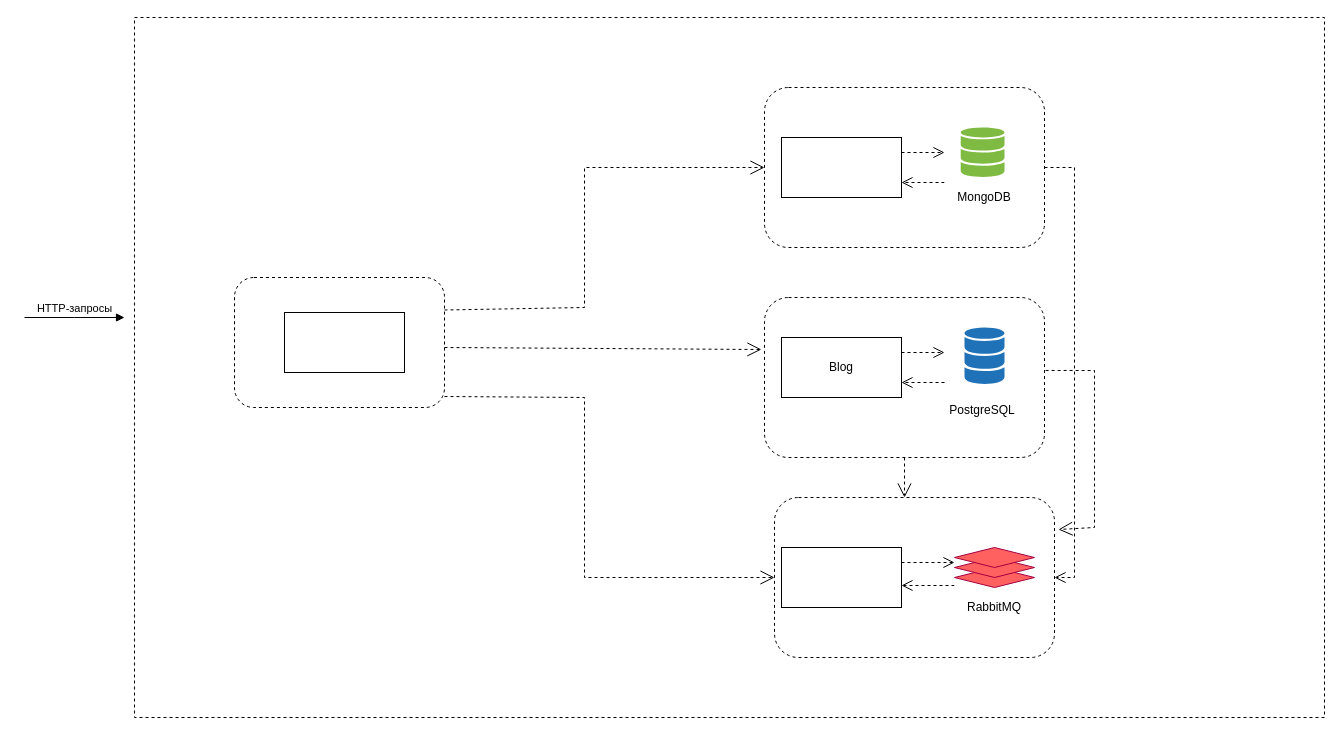
Some shapes in this 1342 by 735 pixel diagram are drawn without their labels. The centre of each missing label's shape, as x and y in pixels:
"API GATEWAY" goes at (x=344, y=342).
"Notify" goes at (x=841, y=577).
"User" goes at (x=841, y=167).
